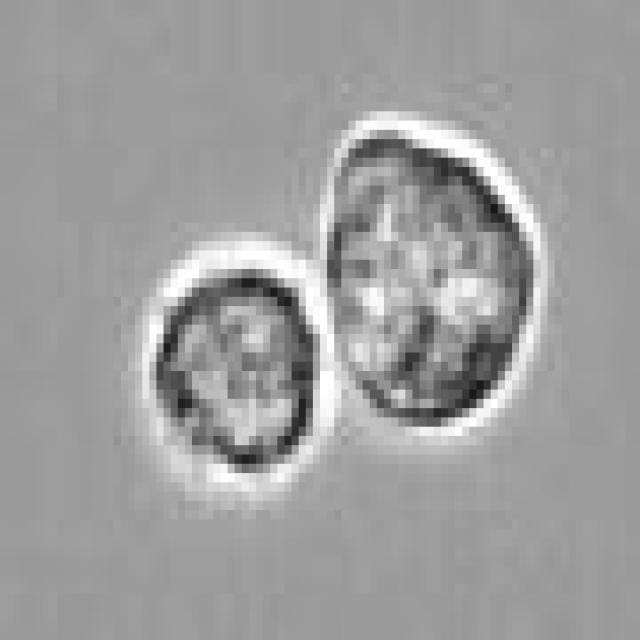Cancer Cell: (327, 130, 548, 427)
WBC: (163, 269, 313, 464)
